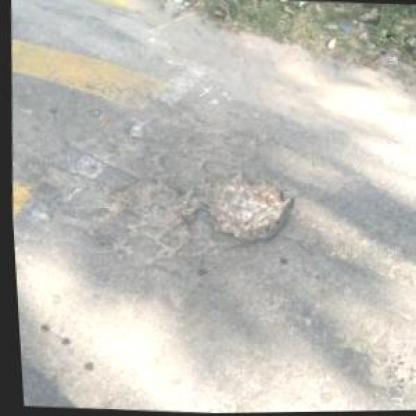pothole: (194, 171, 298, 251), (104, 175, 200, 234)
